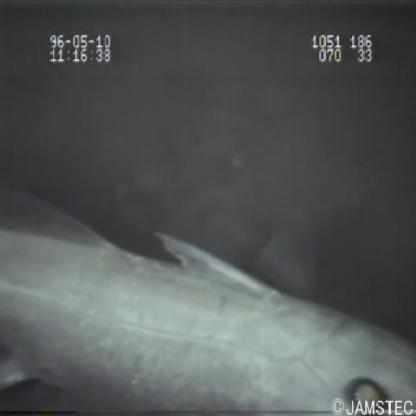Bio: (0, 182, 414, 416)
